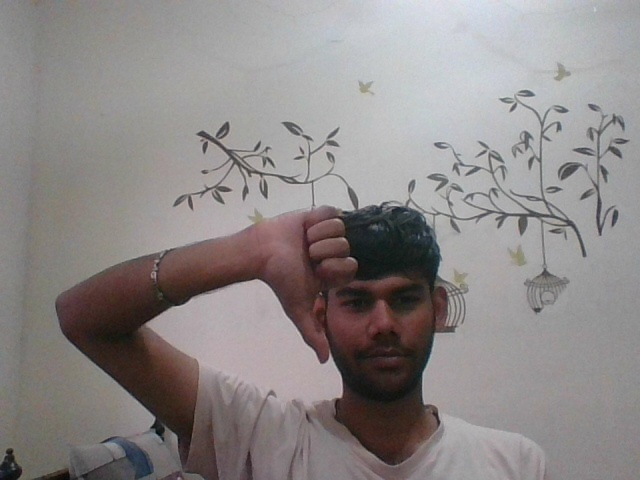No: (241, 196, 367, 361)
